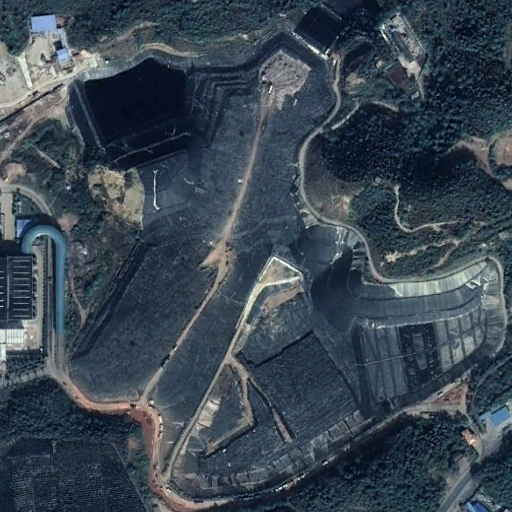lf: (72, 38, 507, 507)
